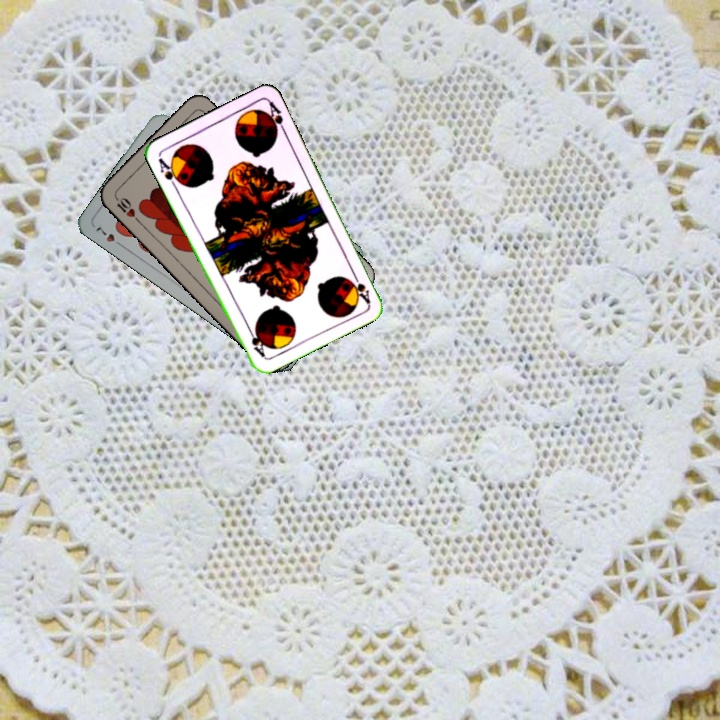H10: (111, 192, 142, 225)
H7: (92, 223, 126, 250)
SA: (154, 154, 185, 191), (347, 267, 373, 306)
